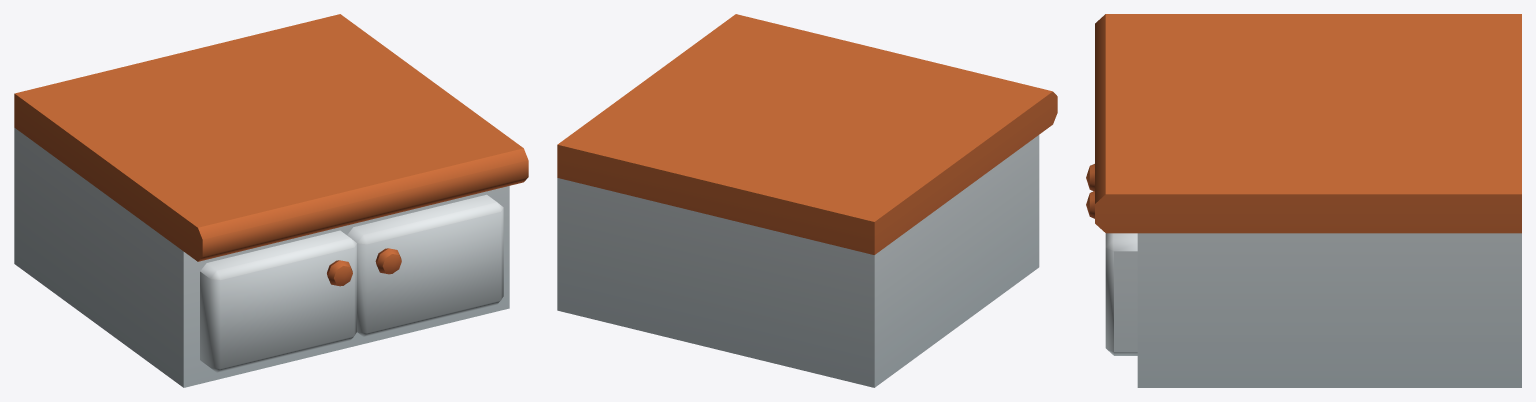
File: drawer.glb
The picture shows the model from 3 angles, left to right: view 1: azimuth 30°, elevation 25°; view 2: azimuth 150°, elevation 25°; view 3: azimuth 270°, elevation 25°; orthographic projection. The views are drawn at different scales.
Visible parts, largest first — view 1: kitchencounter_straight_B; view 2: kitchencounter_straight_B; view 3: kitchencounter_straight_B.
Boxes of the visible parts, left/top/right/bottom form: kitchencounter_straight_B: left=14, top=14, right=528, bottom=387; kitchencounter_straight_B: left=557, top=14, right=1057, bottom=387; kitchencounter_straight_B: left=1086, top=14, right=1521, bottom=387.
Size of the model in its own units: 2 by 1 by 2.04.
Materials: 1 (1 with a texture image).
